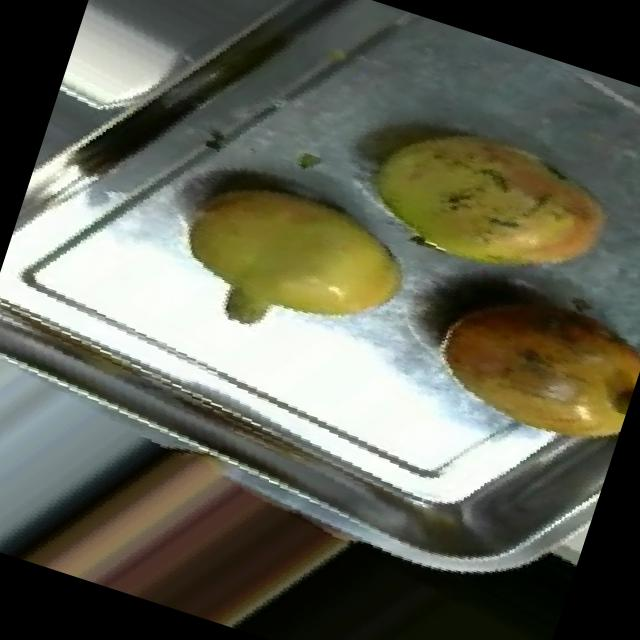fruit: (131, 100, 463, 398), (322, 76, 640, 336), (387, 238, 640, 482)
